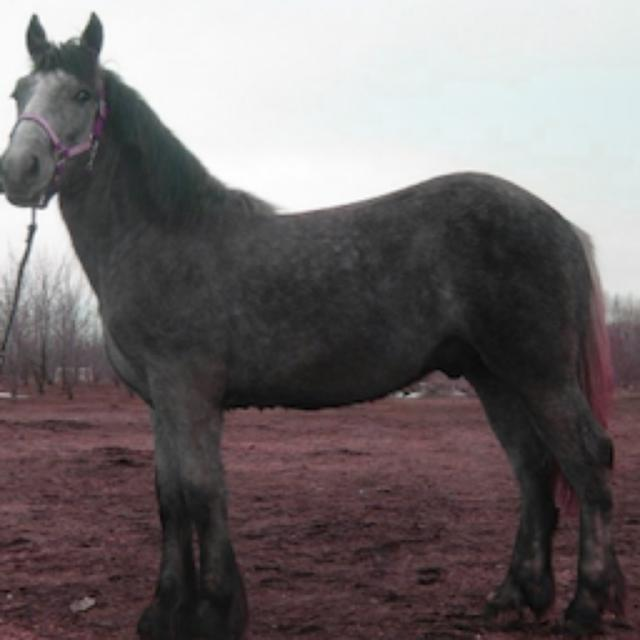Horse: (0, 8, 638, 638)
